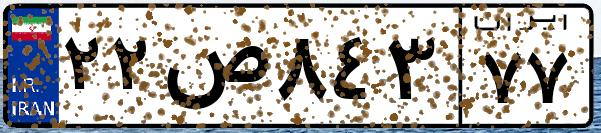2: (57, 26, 110, 100), (110, 28, 158, 98)
3: (385, 28, 445, 110)
4: (330, 28, 385, 110)
7: (475, 38, 525, 113), (525, 38, 570, 115)
8: (270, 28, 330, 110)
ص: (158, 20, 270, 120)
